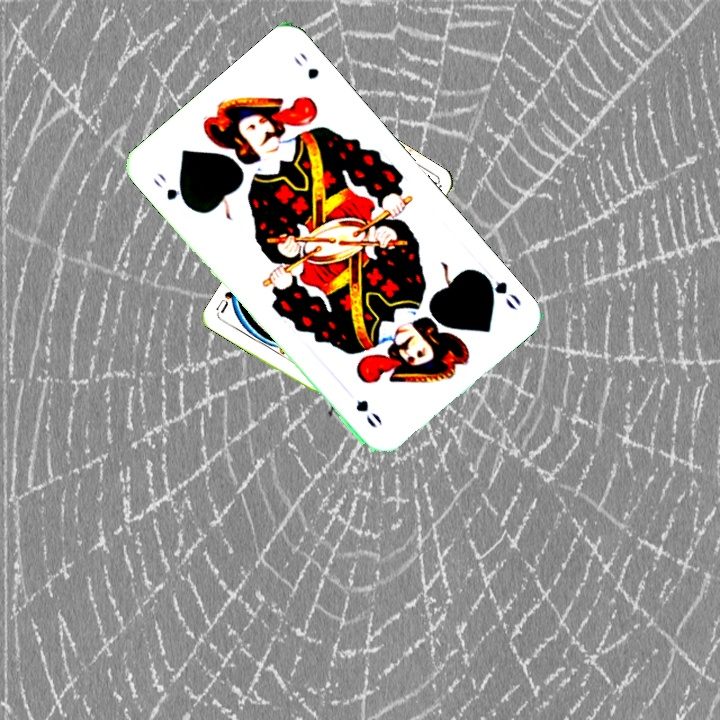GO: (475, 267, 524, 313), (149, 169, 193, 211)
